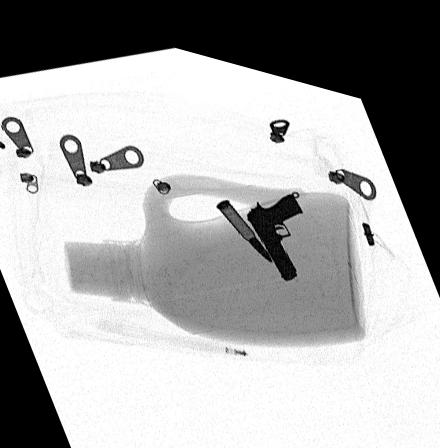Bullet: (216, 186, 273, 247)
Gun: (246, 176, 304, 264)
